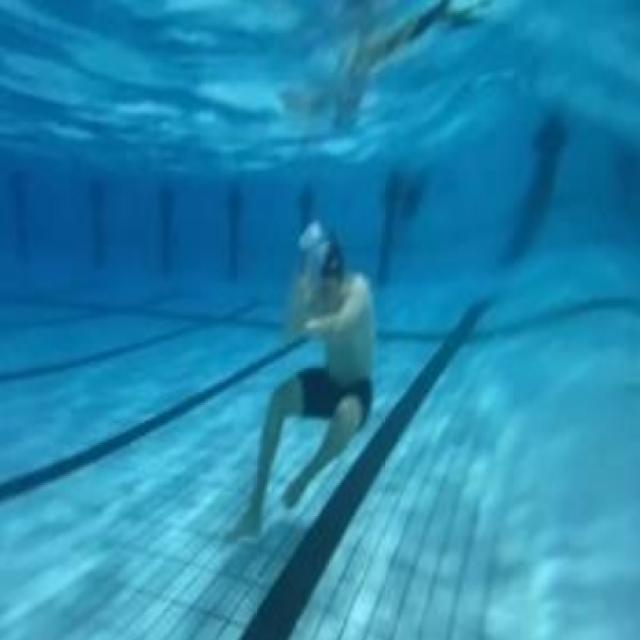Drowning: (228, 225, 374, 543)
